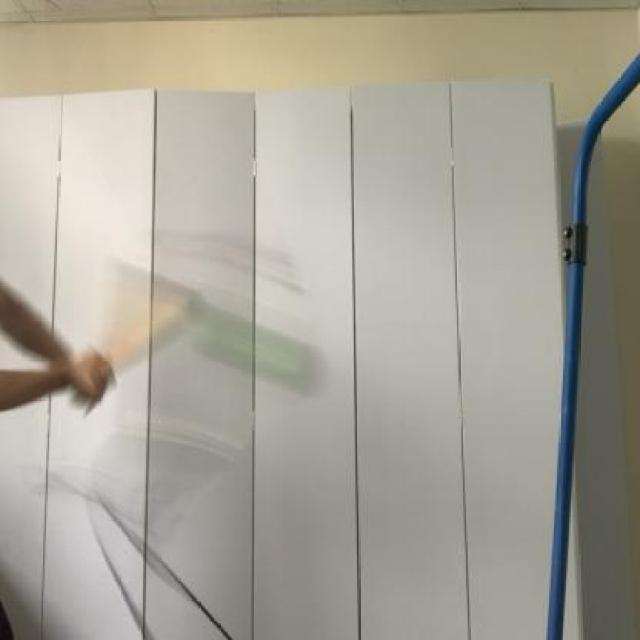baseball: (188, 305, 335, 400)
